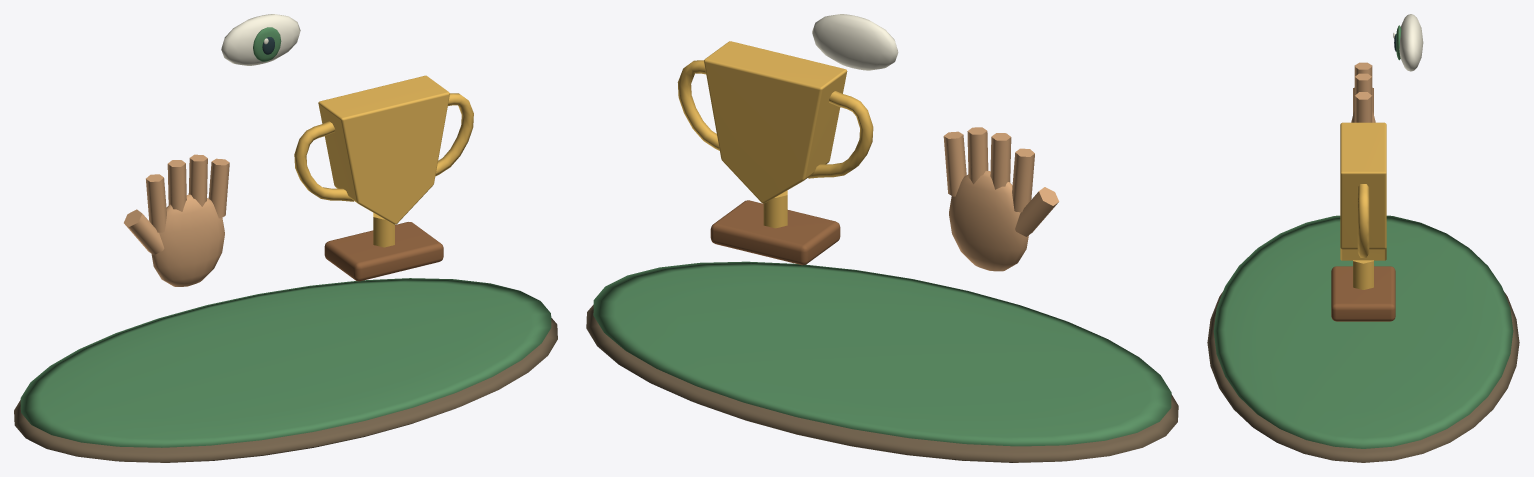
The model's file is complete-third-envied-admired-prize.glb.
The picture shows the model from 3 angles, left to right: view 1: azimuth 30°, elevation 25°; view 2: azimuth 150°, elevation 25°; view 3: azimuth 270°, elevation 25°; orthographic projection. The views are drawn at different scales.
Parts seen in each view (by area): view 1: complete-third-envied-admired-prize_surface_01, complete-third-envied-admired-prize_surface_03, complete-third-envied-admired-prize_surface_02, complete-third-envied-admired-prize_surface_00, complete-third-envied-admired-prize_surface_04, complete-third-envied-admired-prize_surface_05; view 2: complete-third-envied-admired-prize_surface_01, complete-third-envied-admired-prize_surface_03, complete-third-envied-admired-prize_surface_02, complete-third-envied-admired-prize_surface_00, complete-third-envied-admired-prize_surface_04, complete-third-envied-admired-prize_surface_05; view 3: complete-third-envied-admired-prize_surface_01, complete-third-envied-admired-prize_surface_03, complete-third-envied-admired-prize_surface_00, complete-third-envied-admired-prize_surface_04, complete-third-envied-admired-prize_surface_02, complete-third-envied-admired-prize_surface_05.
Part boxes in pixels (x1,y1,x2,y2): complete-third-envied-admired-prize_surface_01: (20,27,551,447); complete-third-envied-admired-prize_surface_03: (294,75,473,247); complete-third-envied-admired-prize_surface_02: (124,154,229,286); complete-third-envied-admired-prize_surface_00: (14,318,557,462); complete-third-envied-admired-prize_surface_04: (324,222,443,281); complete-third-envied-admired-prize_surface_05: (221,14,300,65); complete-third-envied-admired-prize_surface_01: (593,261,1171,446); complete-third-envied-admired-prize_surface_03: (677,41,873,228); complete-third-envied-admired-prize_surface_02: (943,127,1059,271); complete-third-envied-admired-prize_surface_00: (586,304,1178,462); complete-third-envied-admired-prize_surface_04: (710,200,840,265); complete-third-envied-admired-prize_surface_05: (812,14,898,70); complete-third-envied-admired-prize_surface_01: (1213,25,1513,448); complete-third-envied-admired-prize_surface_03: (1340,122,1386,289); complete-third-envied-admired-prize_surface_00: (1207,292,1519,462); complete-third-envied-admired-prize_surface_04: (1331,266,1395,321); complete-third-envied-admired-prize_surface_02: (1351,62,1375,122); complete-third-envied-admired-prize_surface_05: (1393,14,1423,71).
Bounding box in the file's own units: 4.56 × 2.98 × 2.5.
